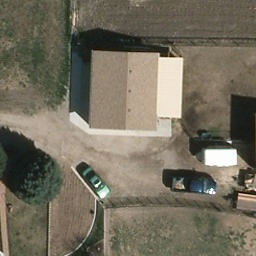camping car: (198, 147, 238, 168)
car: (83, 166, 113, 201)
pickup: (169, 174, 217, 197)
